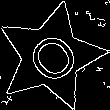O_SE: (17, 23, 85, 90)
